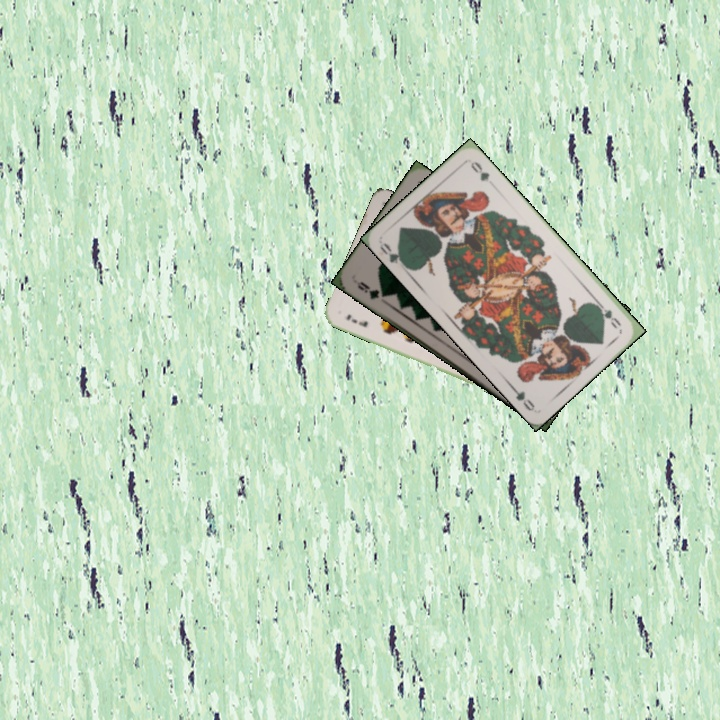E7: (342, 310, 370, 330)
G9: (353, 277, 389, 302)
GO: (591, 297, 624, 331), (376, 239, 409, 271)
